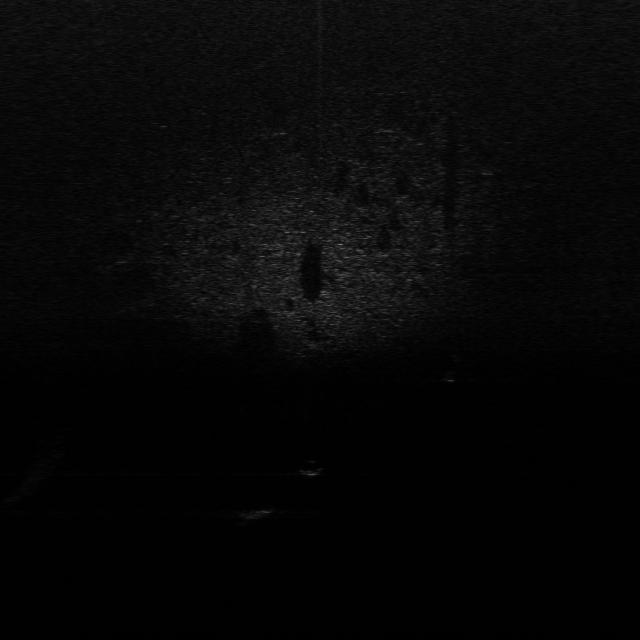ball: (292, 459, 324, 479)
square cage: (236, 499, 276, 522)
tyre: (438, 351, 469, 384)
